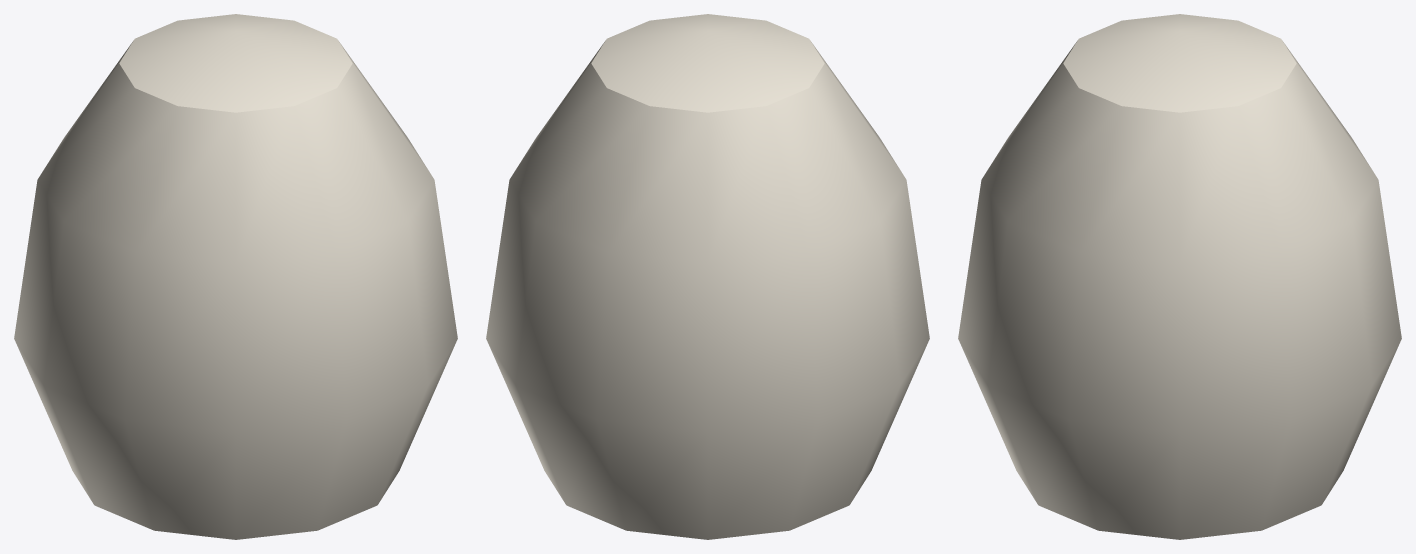
File: Egg.fbx
The picture shows the model from 3 angles, left to right: view 1: azimuth 30°, elevation 25°; view 2: azimuth 150°, elevation 25°; view 3: azimuth 270°, elevation 25°; orthographic projection.
Visible parts, largest first — view 1: Egg; view 2: Egg; view 3: Egg.
Part boxes in pixels (x1,y1,x2,y2): Egg: [14, 14, 457, 539]; Egg: [486, 14, 929, 539]; Egg: [958, 14, 1401, 539].
Bounding box in the file's own units: 0.76 × 0.88 × 0.76.
1 material, 1 textured.
